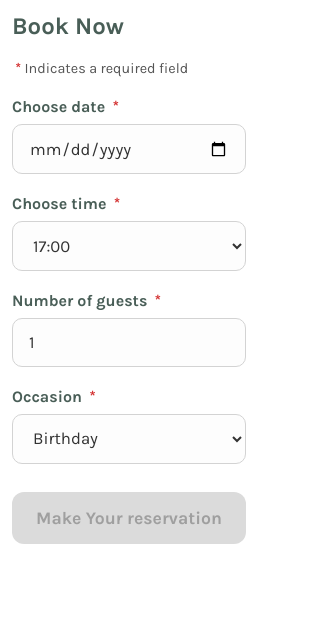
Test: BookingForm Component › Paso 2: React Client-Side Validation States › Submit button is disabled and displays error message when guests is invalid
The width and height of the screenshot is (332, 618).
Type "2026-10-15" into the date field labelled "Choose date *".
click(129, 149); type("2026-10-15")  # box 12,124 -> 246,174
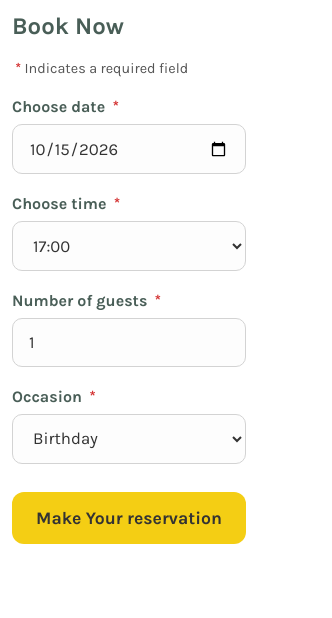
Now the button with aria-label "On Click" is enabled, box 12,492 -> 246,544
Type "0" into the number field labelled "Number of guests *".
click(129, 342); type("0")  # box 12,318 -> 246,367
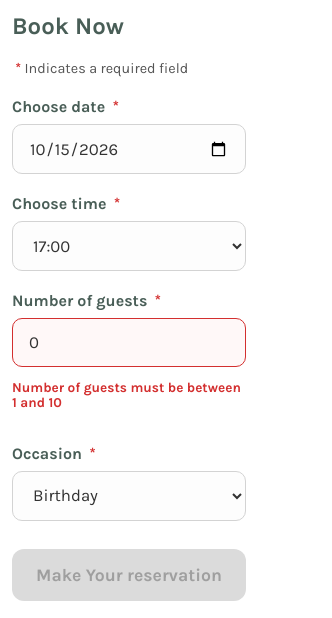
Now the button with aria-label "On Click" is disabled, box 12,549 -> 246,601
Now the text "Number of guests must be between 1 and 10" is shown, box 12,380 -> 246,410
Replace the text in the number field labelled "Number of guests *" with "11" at (129, 342), box 12,318 -> 246,367
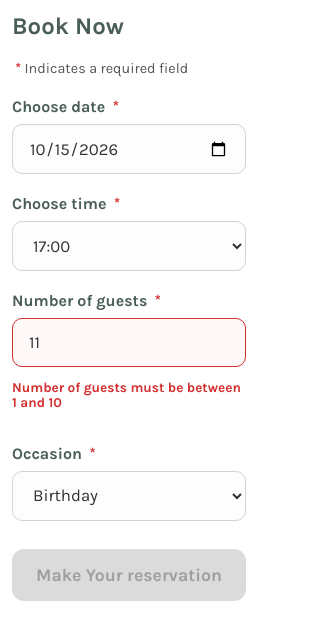
Now the button with aria-label "On Click" is disabled, box 12,549 -> 246,601
Now the text "Number of guests must be between 1 and 10" is shown, box 12,380 -> 246,410
Replace the text in the number field labelled "Number of guests *" with "4" at (129, 342), box 12,318 -> 246,367
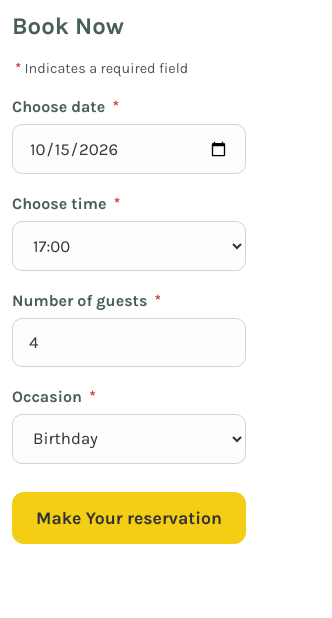
Now the button with aria-label "On Click" is enabled, box 12,492 -> 246,544
Now the text "Number of guests must be between 1 and 10" is gone
